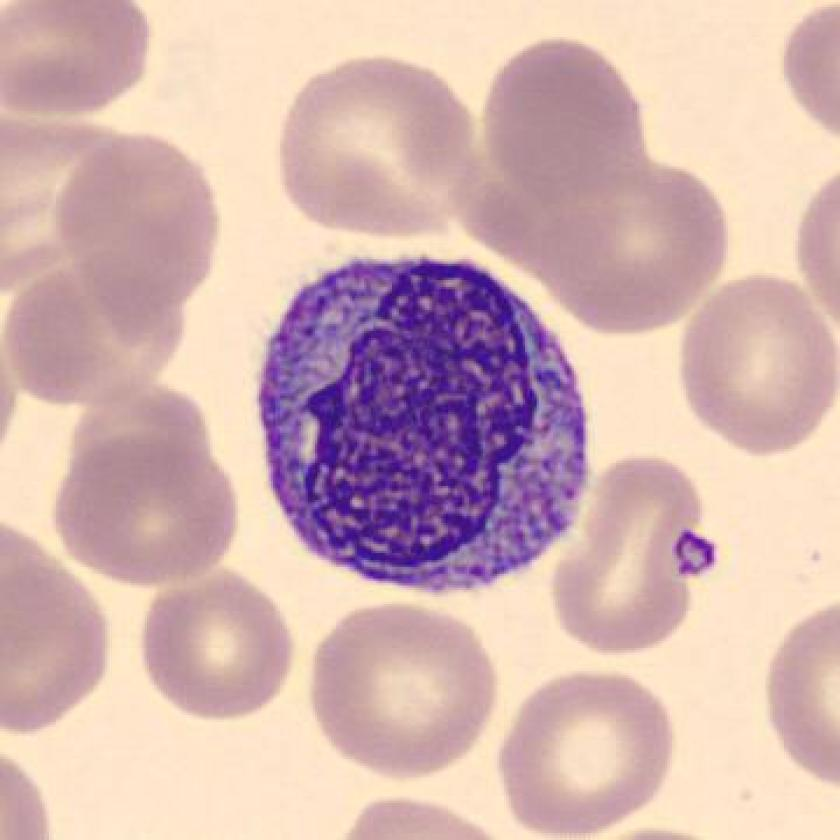monocyte: (239, 230, 615, 614)
